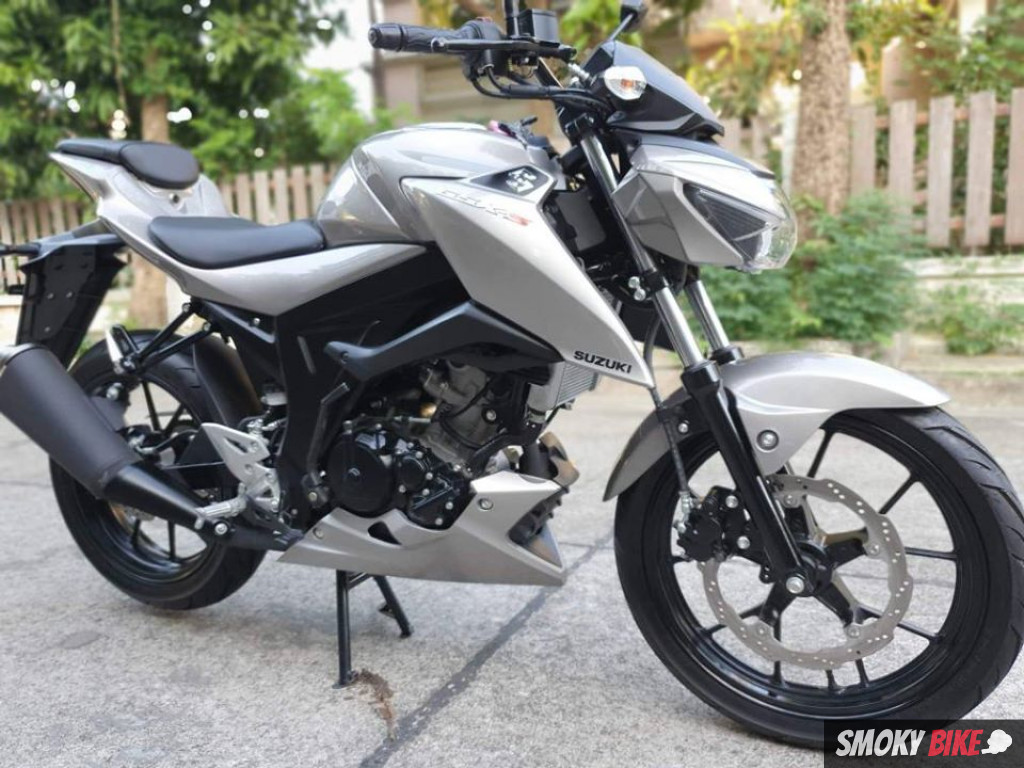motorcycle: (6, 1, 1024, 752)
